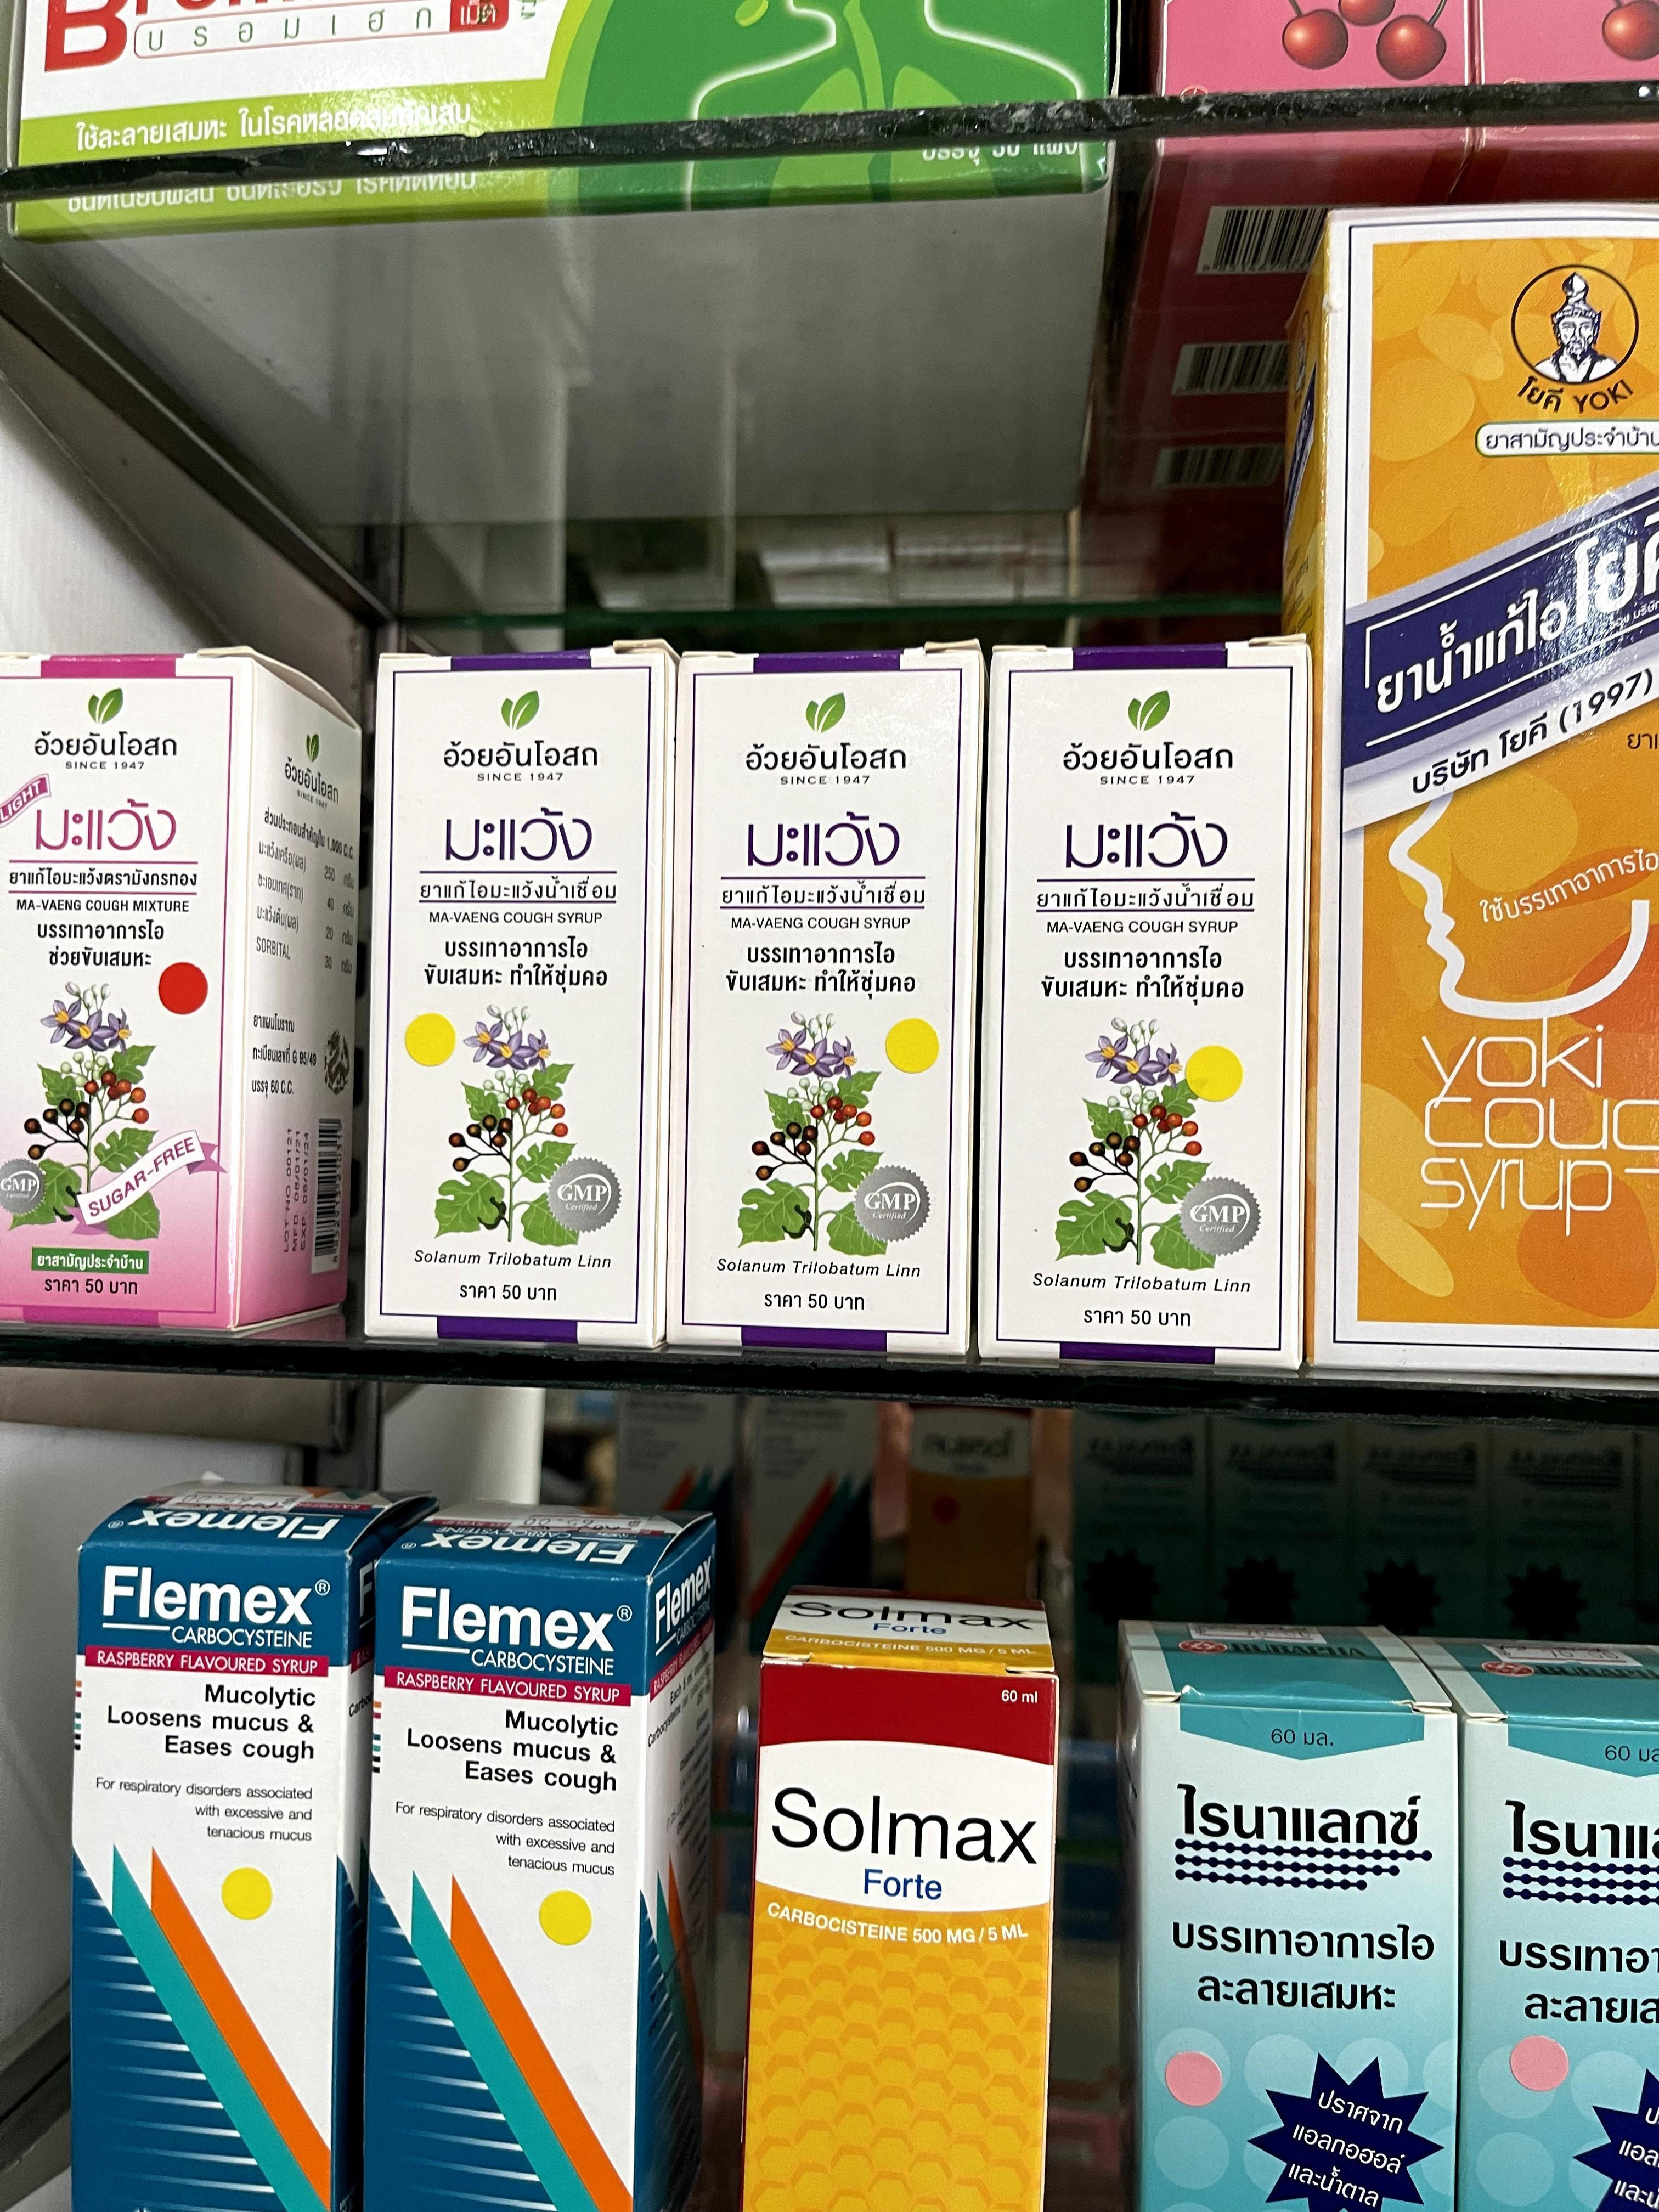Ma-Vaeng_Light: (0, 644, 345, 1341)
Ma-Vaeng_Syrup: (983, 650, 1319, 1371), (664, 650, 979, 1359), (369, 650, 666, 1341)
Rhinalax: (1122, 1616, 1459, 2212), (1424, 1627, 1659, 2212)
Solmax: (746, 1594, 1061, 2212)
